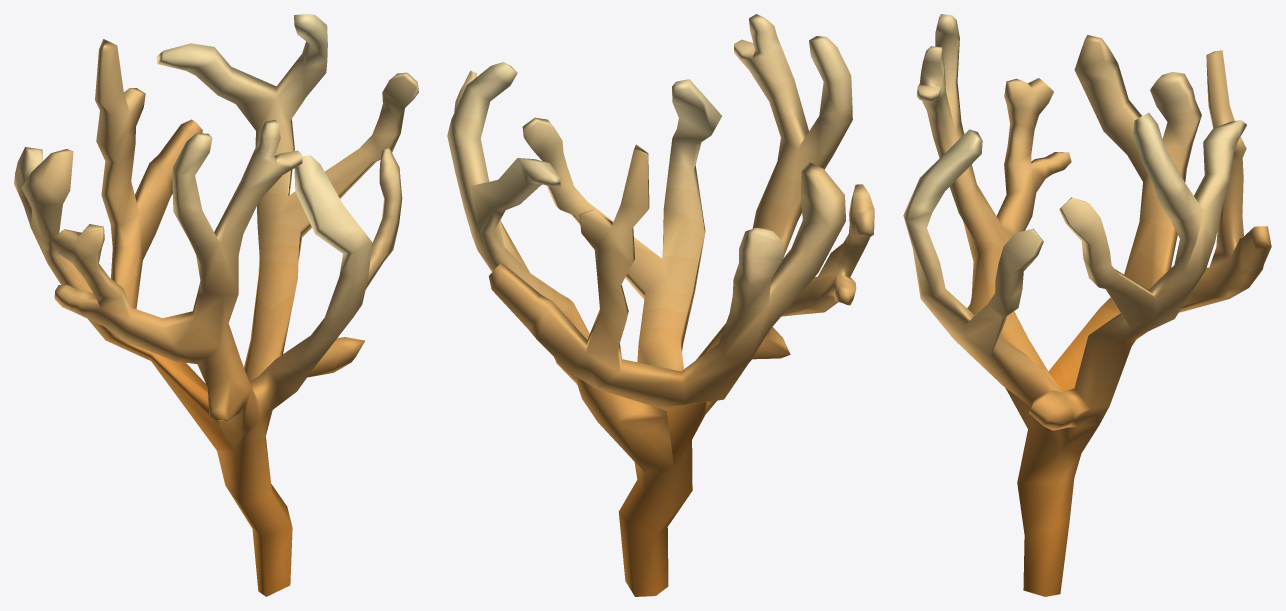
The model's file is CoralND.fbx.
3 renders of one model, left to right at view 1: azimuth 30°, elevation 25°; view 2: azimuth 150°, elevation 25°; view 3: azimuth 270°, elevation 25°, orthographic. The views are drawn at different scales.
Visible parts, largest first — view 1: CoralND; view 2: CoralND; view 3: CoralND.
Part boxes in pixels (x1=…): CoralND: x1=14, y1=14, x2=418, y2=596; CoralND: x1=447, y1=14, x2=874, y2=596; CoralND: x1=903, y1=14, x2=1271, y2=596.
Bounding box in the file's own units: 61.11 × 80.05 × 51.27.
Materials: 1 (1 with a texture image).
